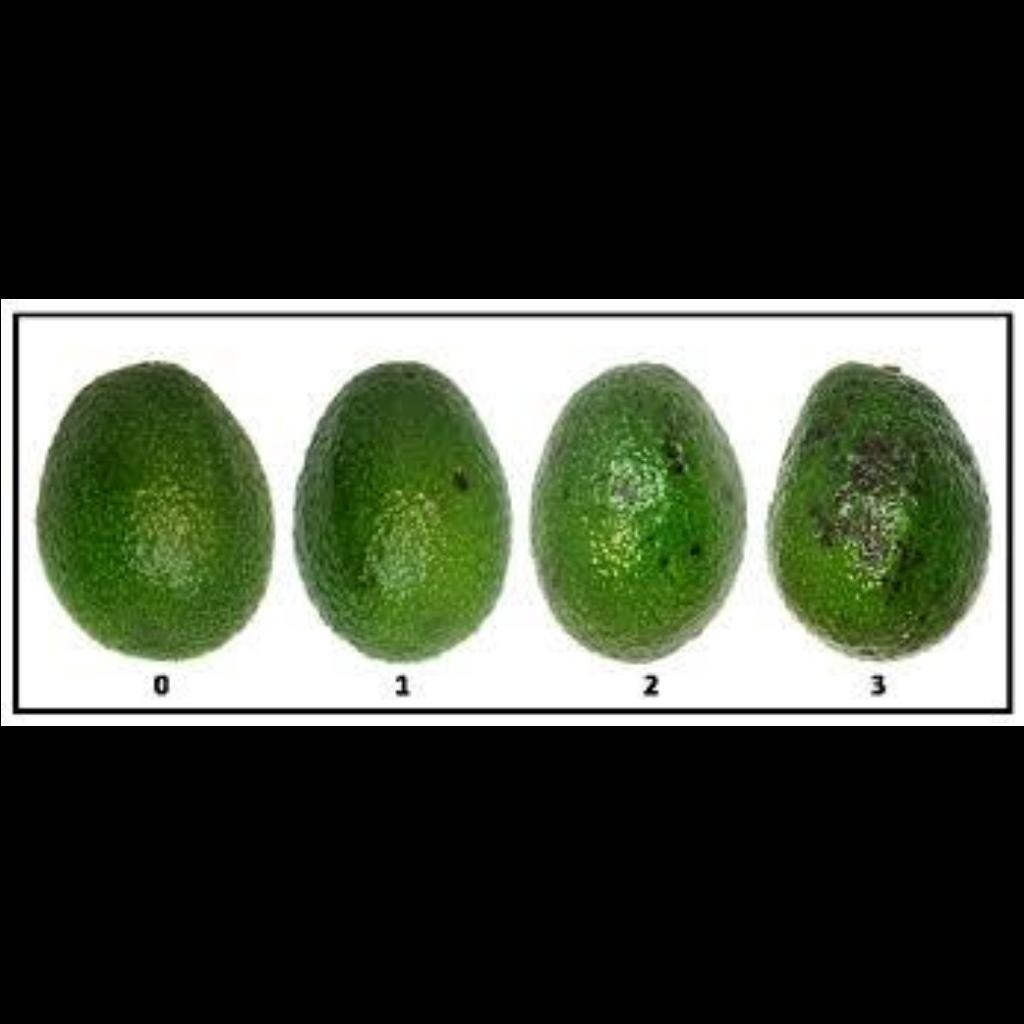cercospora: (532, 355, 759, 644), (301, 359, 502, 598), (800, 373, 980, 636)
